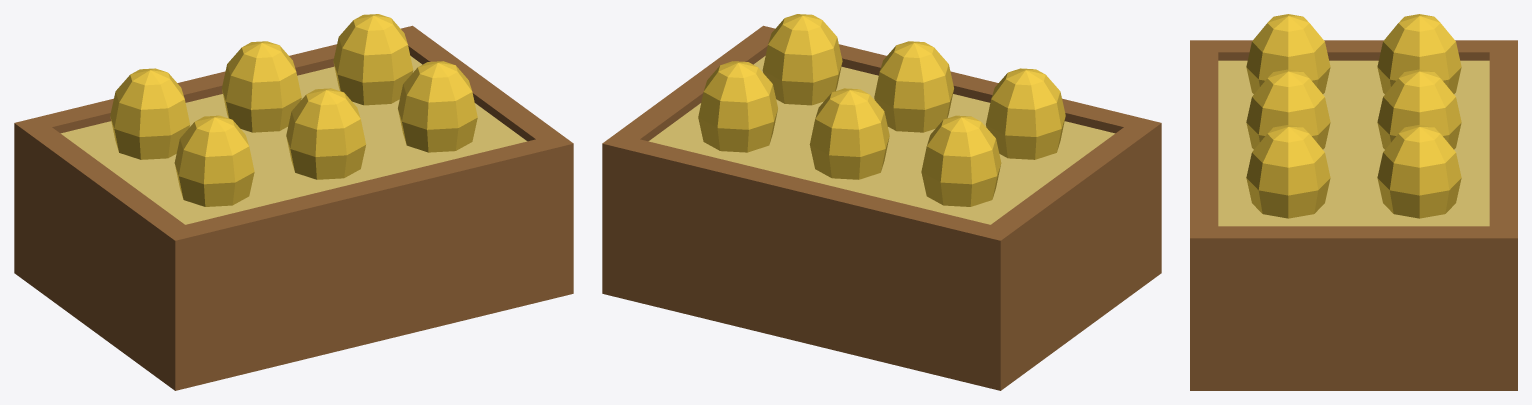
The model's file is golden_egg_box.glb.
3 renders of one model, left to right at view 1: azimuth 30°, elevation 25°; view 2: azimuth 150°, elevation 25°; view 3: azimuth 270°, elevation 25°, orthographic.
Visible parts, largest first — view 1: crate_egg_crate, eggs_egg_gold, straw_egg_straw; view 2: crate_egg_crate, eggs_egg_gold, straw_egg_straw; view 3: crate_egg_crate, eggs_egg_gold, straw_egg_straw.
Part boxes in pixels (x1,y1,x2,y2): crate_egg_crate: (14,25,573,390); eggs_egg_gold: (110,14,477,206); straw_egg_straw: (60,56,527,224); crate_egg_crate: (602,25,1161,390); eggs_egg_gold: (698,14,1065,206); straw_egg_straw: (648,56,1115,224); crate_egg_crate: (1190,40,1517,390); eggs_egg_gold: (1246,14,1461,218); straw_egg_straw: (1218,60,1489,226).
Size of the model in its own units: 0.5 by 0.26 by 0.35.
